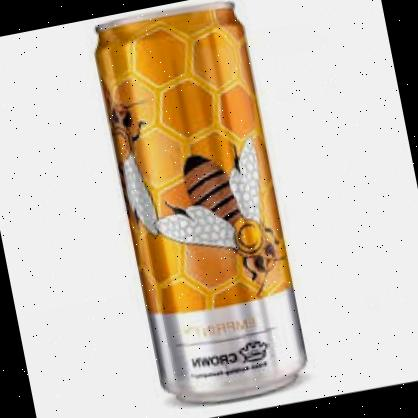can: (86, 0, 319, 418)
